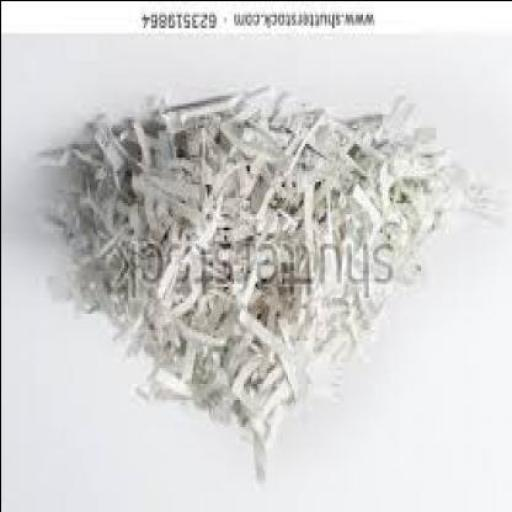paper: (41, 89, 496, 485)
